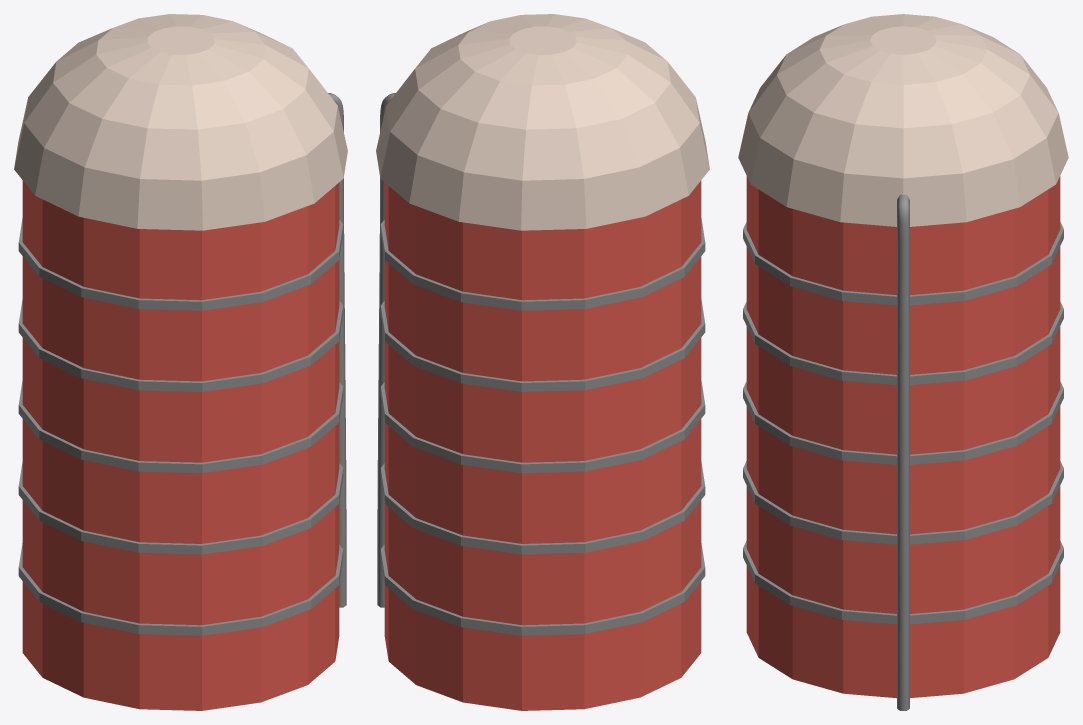
The model's file is Silo.fbx.
3 renders of one model, left to right at view 1: azimuth 30°, elevation 25°; view 2: azimuth 150°, elevation 25°; view 3: azimuth 270°, elevation 25°, orthographic.
Parts seen in each view (by area): view 1: Silo; view 2: Silo; view 3: Silo.
Boxes of the visible parts, x1=… form: Silo: x1=14, y1=14, x2=347, y2=710; Silo: x1=376, y1=14, x2=709, y2=710; Silo: x1=738, y1=14, x2=1068, y2=710.
Bounding box in the file's own units: 367 × 682 × 345.
